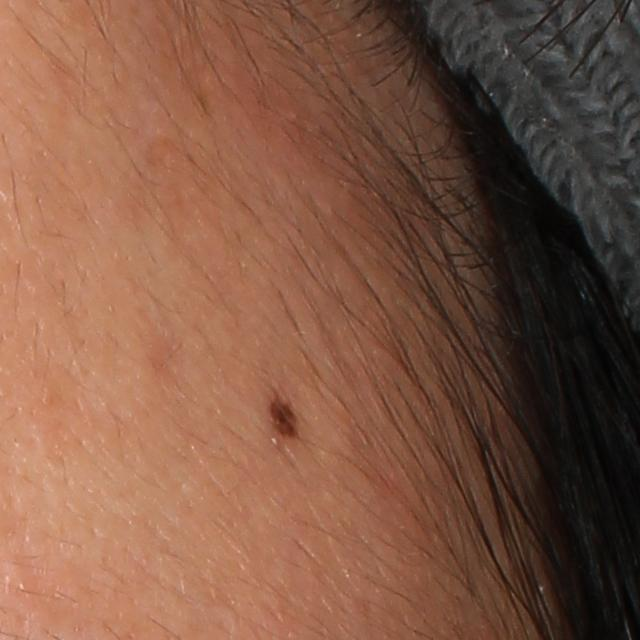nevus: (266, 390, 307, 438)
